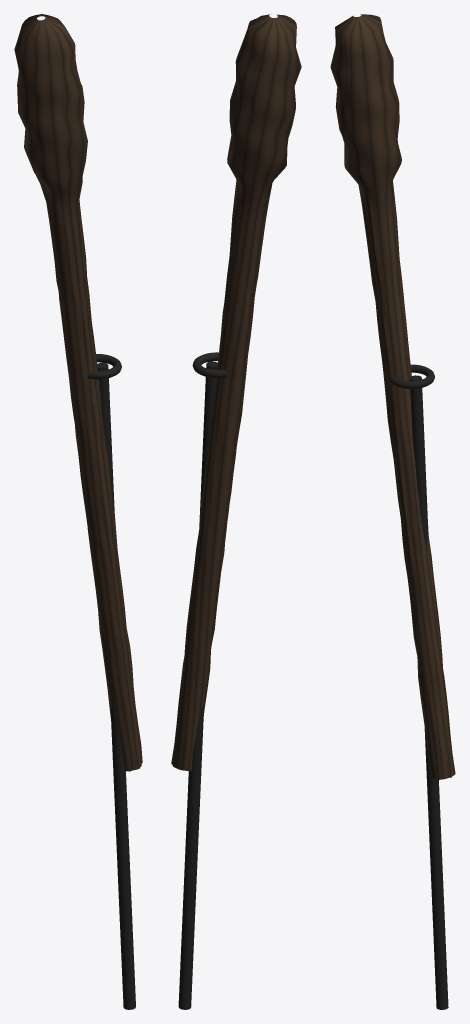
The model's file is torch_L2.glb.
The picture shows the model from 3 angles, left to right: view 1: azimuth 30°, elevation 25°; view 2: azimuth 150°, elevation 25°; view 3: azimuth 330°, elevation 25°; orthographic projection. The views are drawn at different scales.
Parts seen in each view (by area): view 1: torch, spike, ring; view 2: torch, spike, ring; view 3: torch, spike, ring.
Boxes of the visible parts, x1,y1,x2,y2 form: torch: (14,14,142,771); spike: (97,362,135,1009); ring: (87,354,121,379); torch: (171,14,301,770); spike: (178,361,217,1009); ring: (192,352,227,377); torch: (330,14,455,779); spike: (410,375,448,1009); ring: (388,364,434,388).
Size of the model in its own units: 0.1316 by 1.04 by 0.0629.
2 materials, 1 textured.
